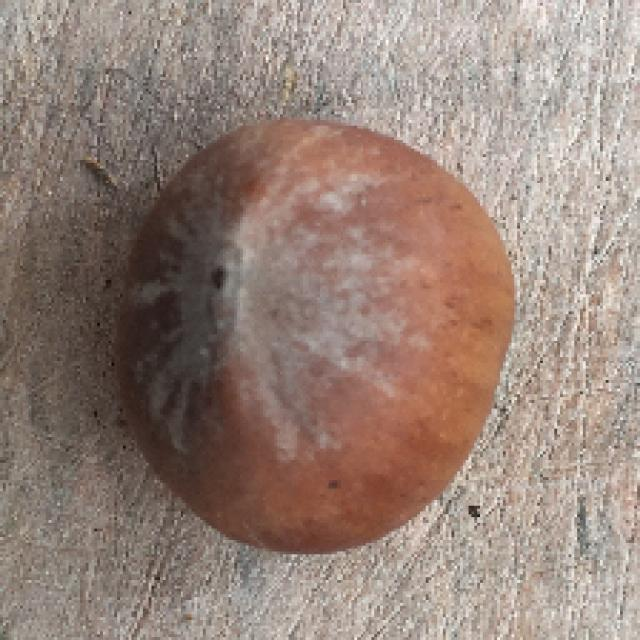DamagedHazelnut: (119, 121, 517, 557)
